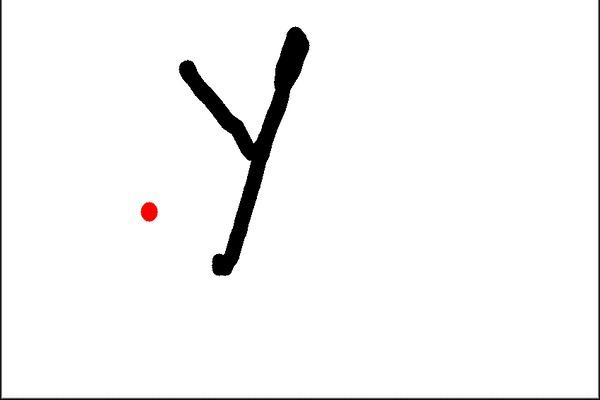Y: (172, 18, 315, 285)
